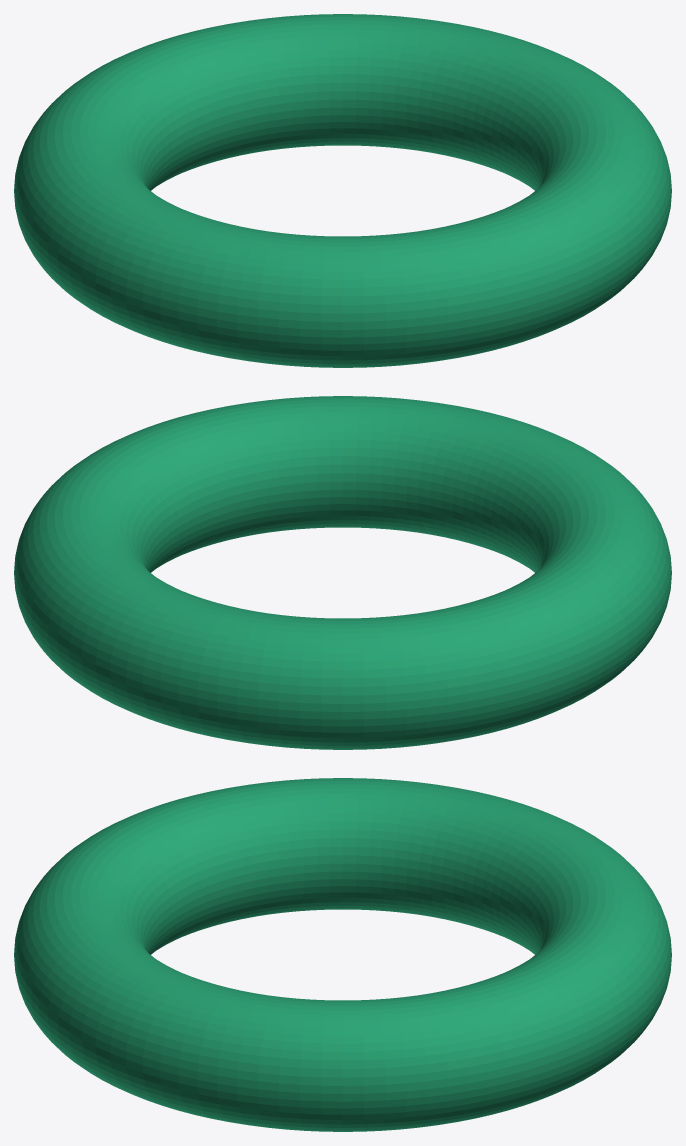
Rendered from donut.obj.
3 renders of one model, top to bottom at view 1: azimuth 30°, elevation 25°; view 2: azimuth 150°, elevation 25°; view 3: azimuth 270°, elevation 25°, orthographic.
Parts seen in each view (by area): view 1: Torus; view 2: Torus; view 3: Torus.
Part boxes in pixels (bbox=[...]): Torus: bbox=[14, 14, 671, 367]; Torus: bbox=[14, 396, 671, 749]; Torus: bbox=[14, 778, 671, 1131].
Bounding box in the file's own units: 2.5 × 0.5 × 2.5.
